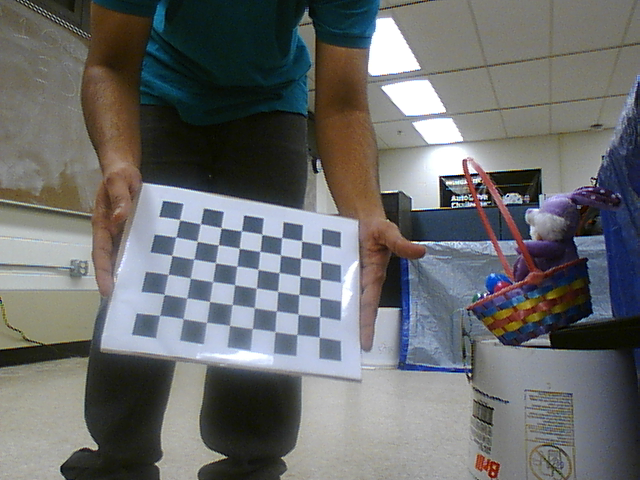bunny: (453, 152, 612, 354)
